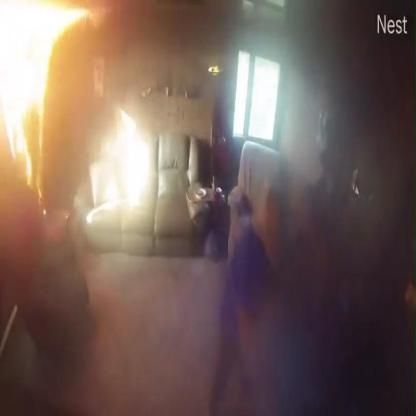fire: (0, 3, 94, 200)
